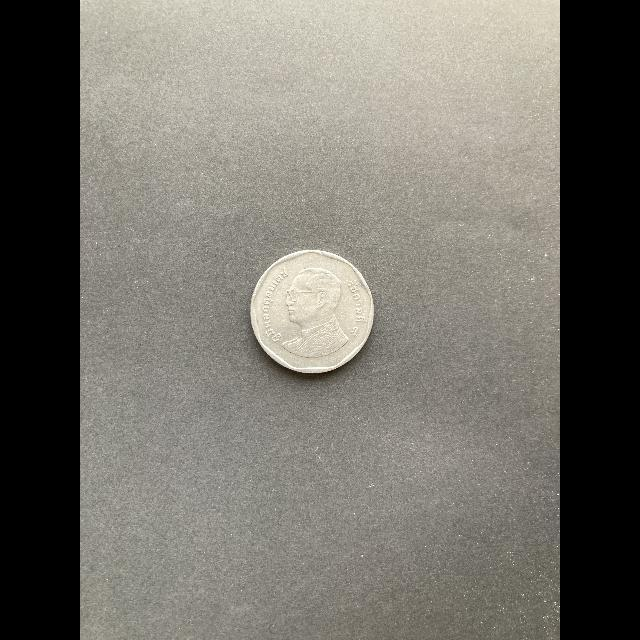5 Bath: (248, 244, 379, 380)
